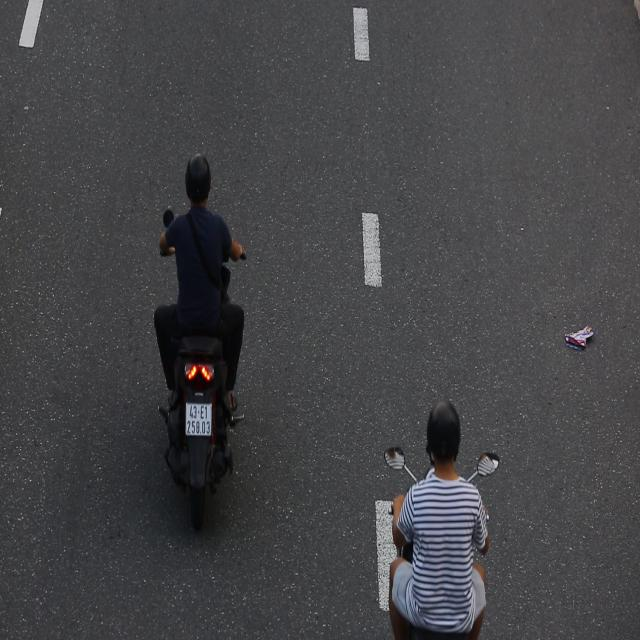motorbike: (136, 128, 256, 573)
